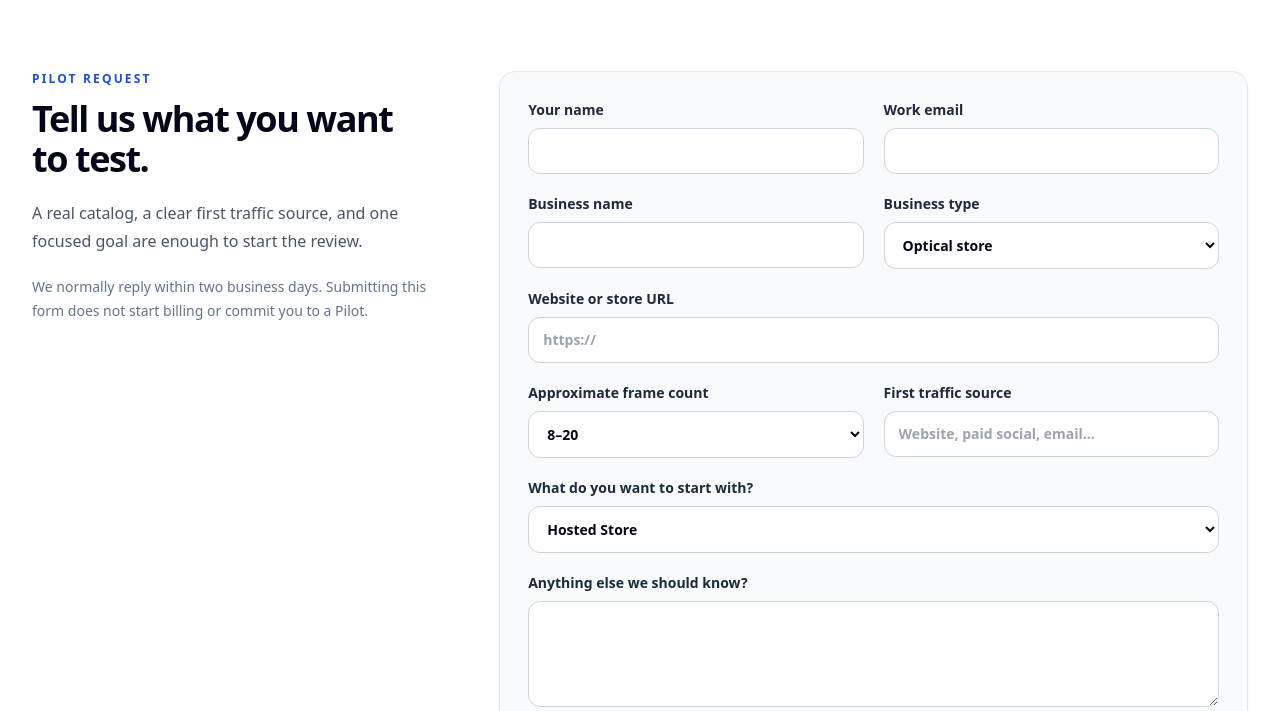
Test: BusinessPilotLeadForm measurement › does not report a Pilot lead when the persistence request fails
Type "Test Merchant" into the field labelled "Your name".
click(696, 151); type("Test Merchant")  # box [528,128,864,174]
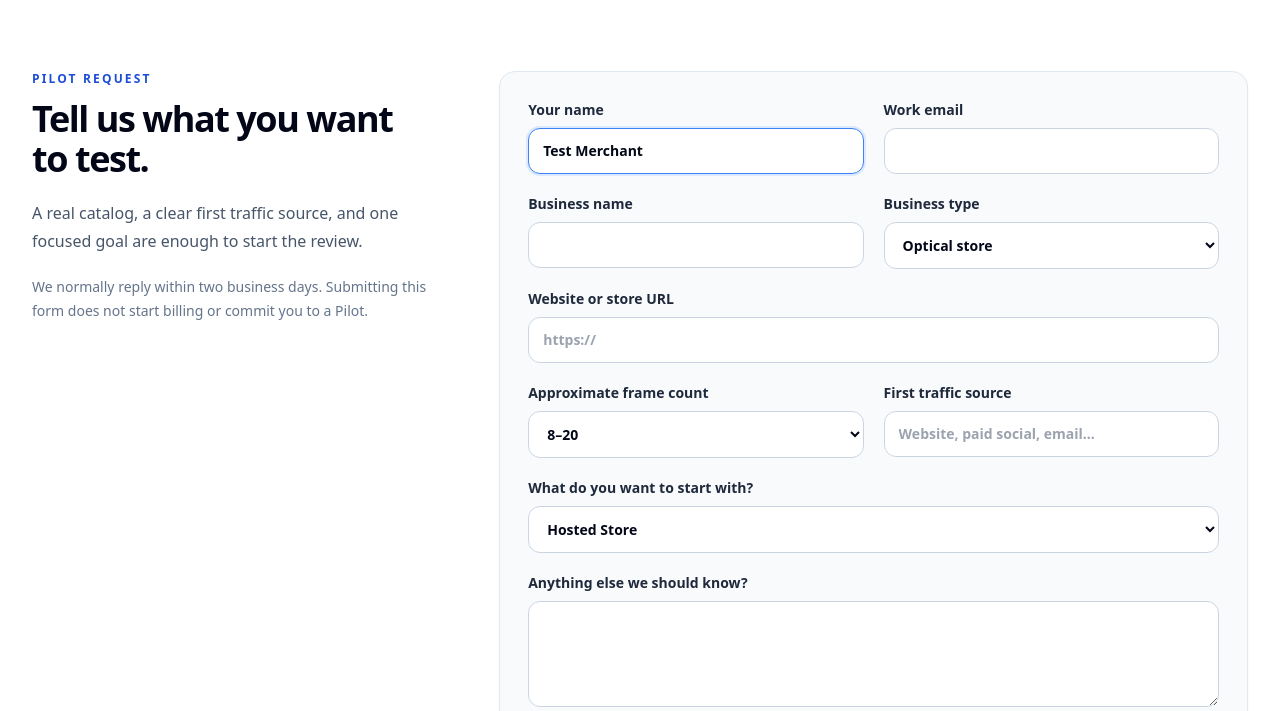
Type "merchant@example.test" into the field labelled "Work email".
click(1051, 151); type("merchant@example.test")  # box [884,128,1219,174]
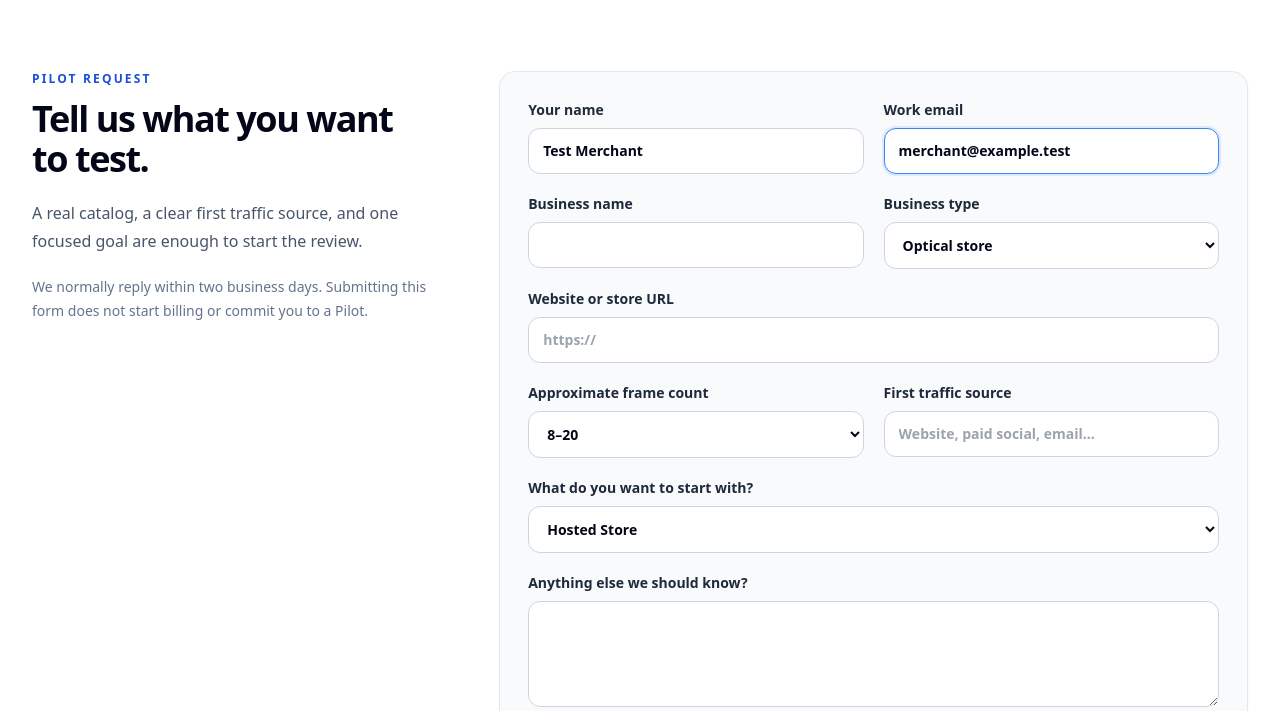
Type "Test Eyewear Shop" into the field labelled "Business name".
click(696, 245); type("Test Eyewear Shop")  # box [528,222,864,268]
(page scrolled)
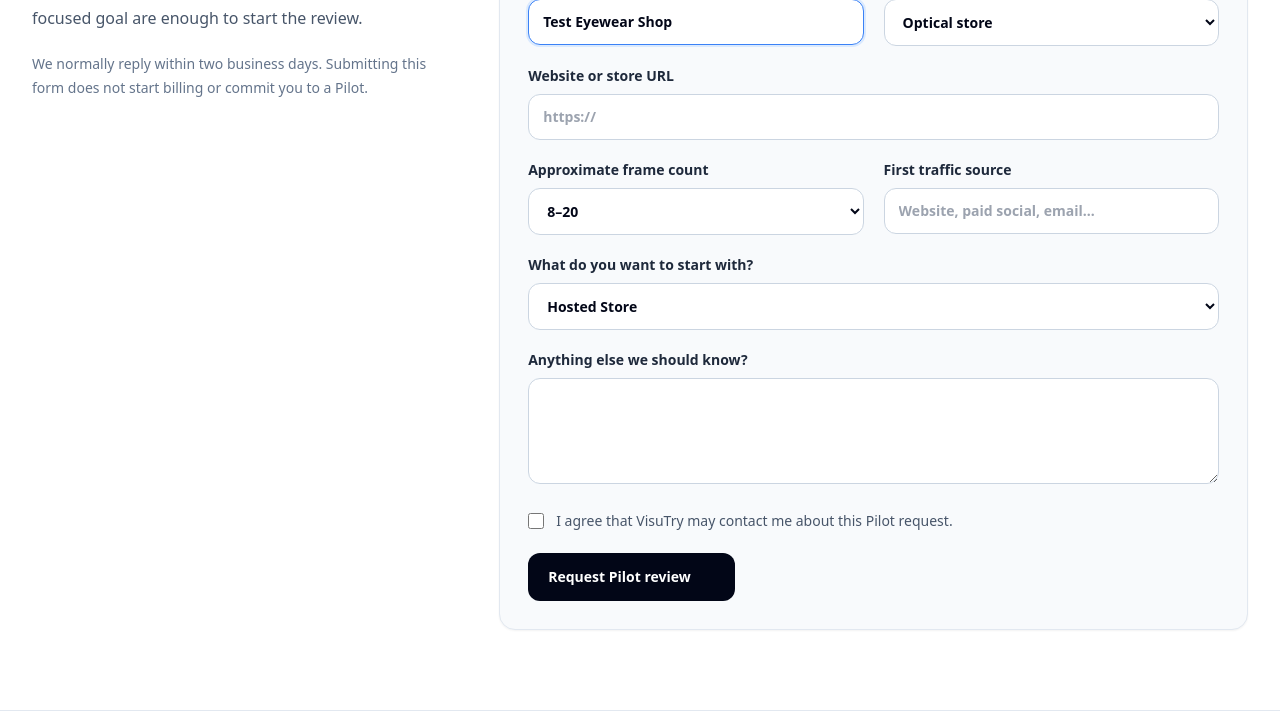
Click the checkbox.
click(536, 521)  # box [528,513,544,529]
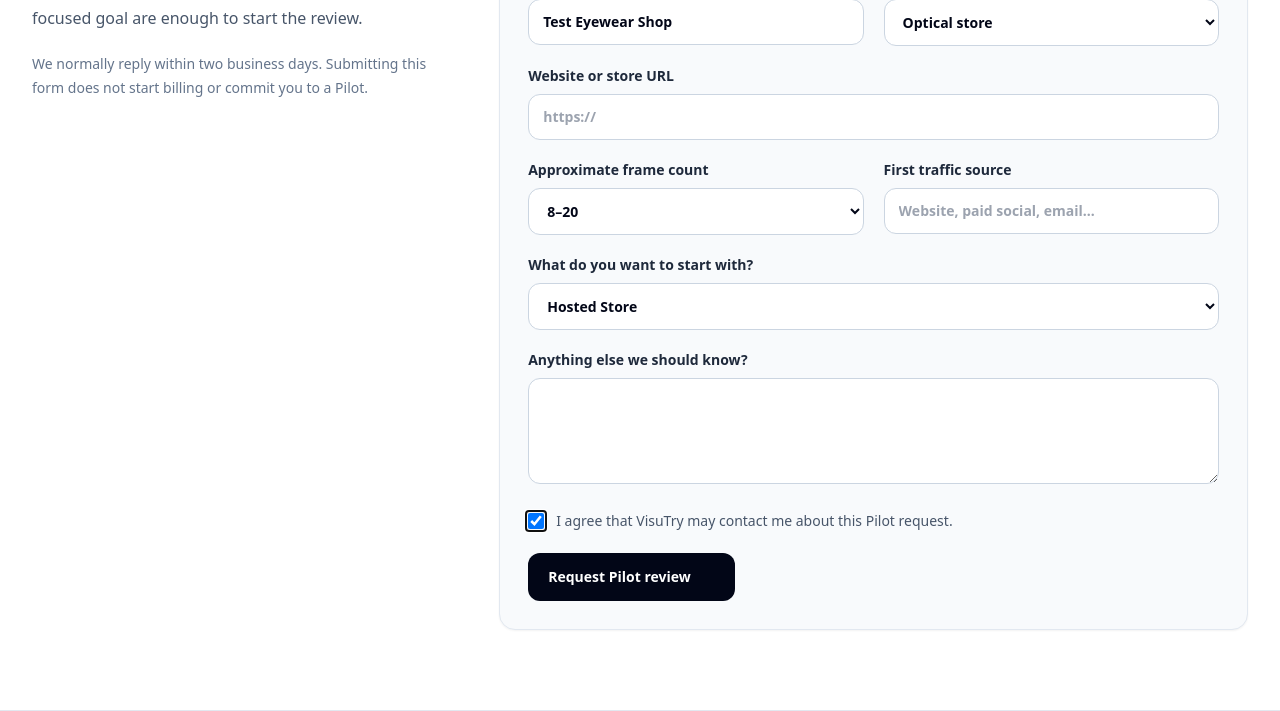
Click the button "Request Pilot review".
click(631, 577)  # box [528,553,735,601]
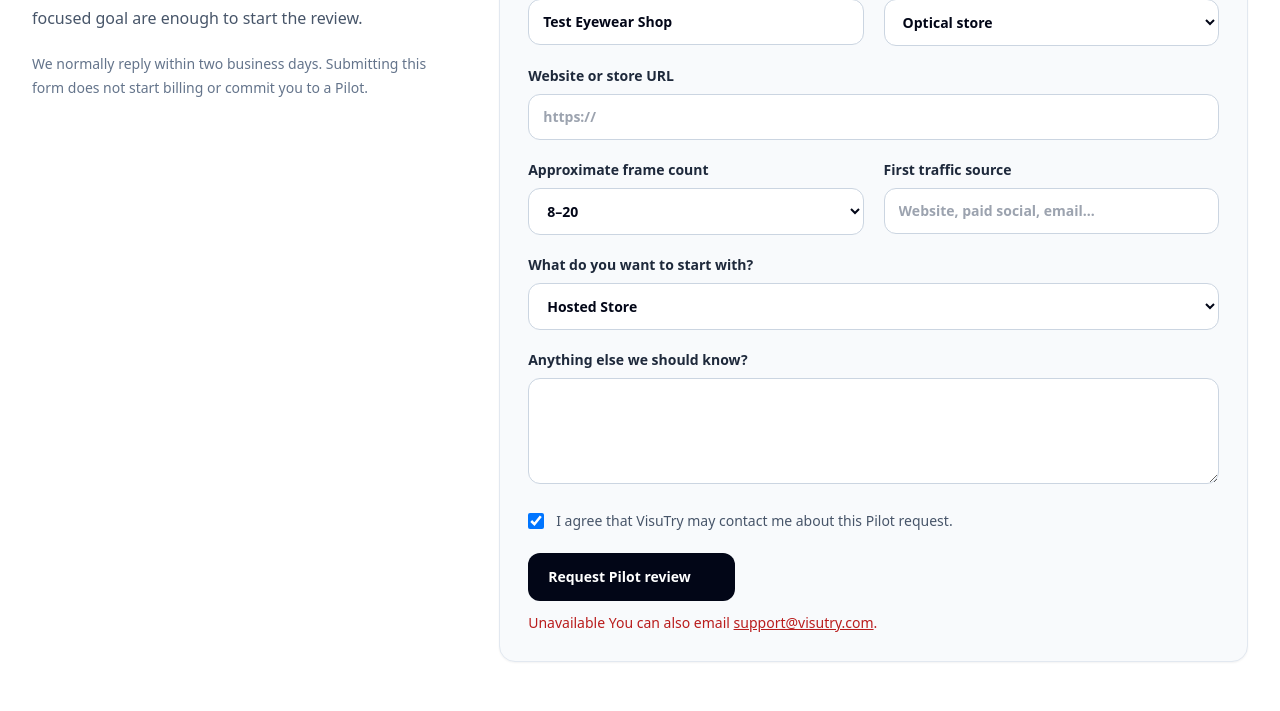
Expected: the message "Unavailable You can also email support@visutry.com ." is shown, [528,613,877,632]
